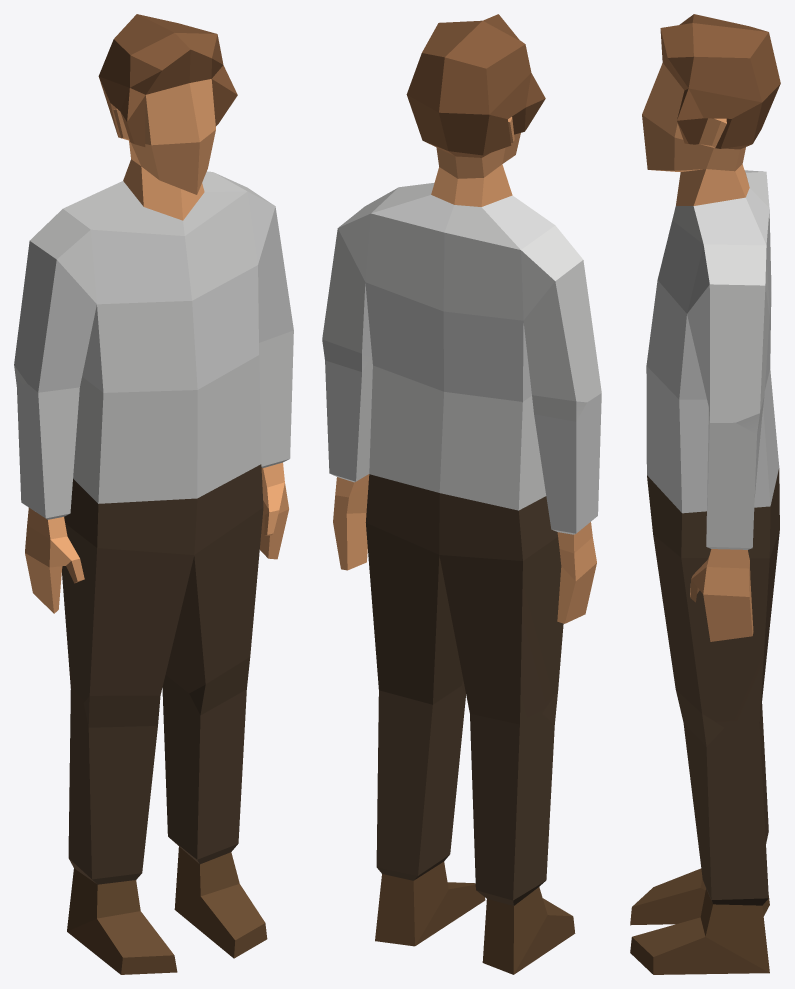
File: people_man-guy.fbx
3 views of the same model, side by side, from view 1: azimuth 30°, elevation 25°; view 2: azimuth 150°, elevation 25°; view 3: azimuth 270°, elevation 25° (orthographic).
Visible parts, largest first — view 1: people_man_guy; view 2: people_man_guy; view 3: people_man_guy.
Boxes of the visible parts, x1=… form: people_man_guy: x1=14, y1=14, x2=293, y2=974; people_man_guy: x1=322, y1=14, x2=601, y2=974; people_man_guy: x1=630, y1=14, x2=780, y2=974.
Size of the model in its own units: 58.8 by 200 by 29.81.
